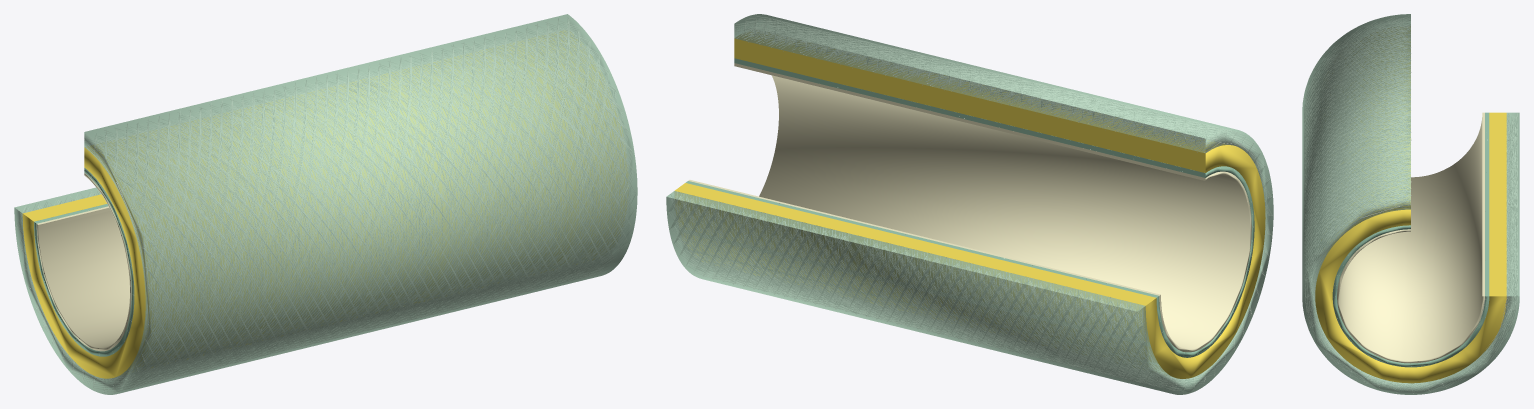
File: kompozit-truba.glb
The picture shows the model from 3 angles, left to right: view 1: azimuth 30°, elevation 25°; view 2: azimuth 150°, elevation 25°; view 3: azimuth 270°, elevation 25°; orthographic projection. The views are drawn at different scales.
Visible parts, largest first — view 1: D_GG, FG_Outer, D_BY, D_LY, D_G; view 2: D_LY, D_GG, FG_Outer, D_BY, D_G; view 3: D_GG, FG_Outer, D_LY, D_BY, D_G.
Part boxes in pixels (<box>): D_GG: <box>14,14,637,394</box>; FG_Outer: <box>16,18,634,392</box>; D_BY: <box>22,30,628,378</box>; D_LY: <box>36,173,131,351</box>; D_G: <box>34,168,134,356</box>; D_LY: <box>688,63,1251,352</box>; D_GG: <box>666,14,1273,394</box>; FG_Outer: <box>668,16,1272,392</box>; D_BY: <box>674,32,1265,378</box>; D_G: <box>685,58,1254,357</box>; D_GG: <box>1302,14,1519,394</box>; FG_Outer: <box>1304,17,1517,393</box>; D_LY: <box>1337,112,1484,363</box>; D_BY: <box>1315,26,1506,383</box>; D_G: <box>1332,112,1489,367</box>.
Bounding box in the file's own units: 2 × 1 × 1.
